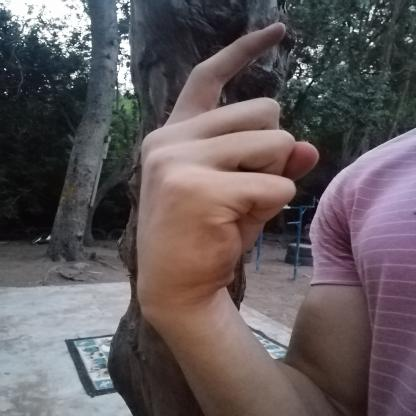RAA: (124, 13, 326, 328)
